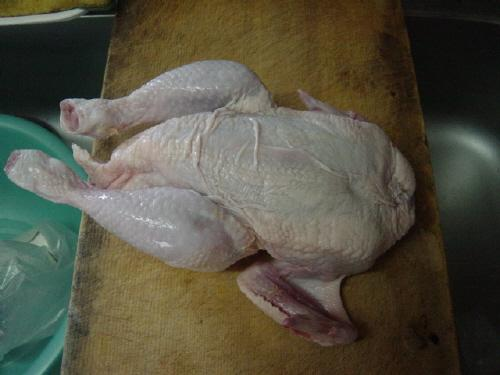chicken: (5, 35, 327, 206)
